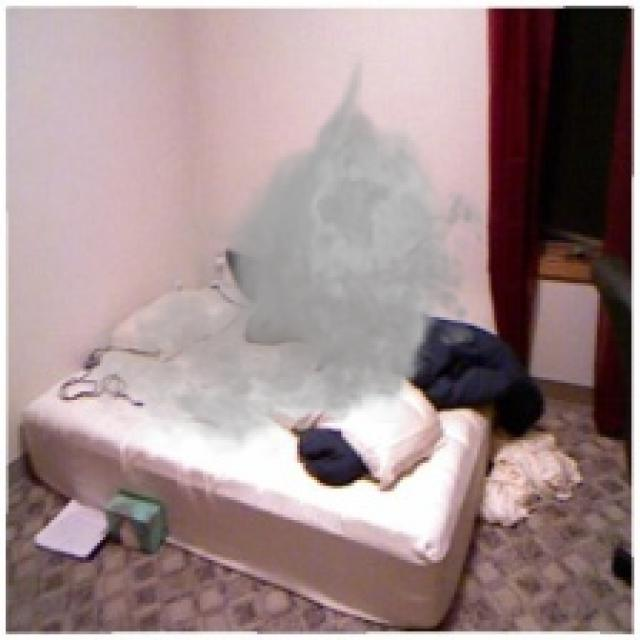smoke: (77, 48, 503, 466)
